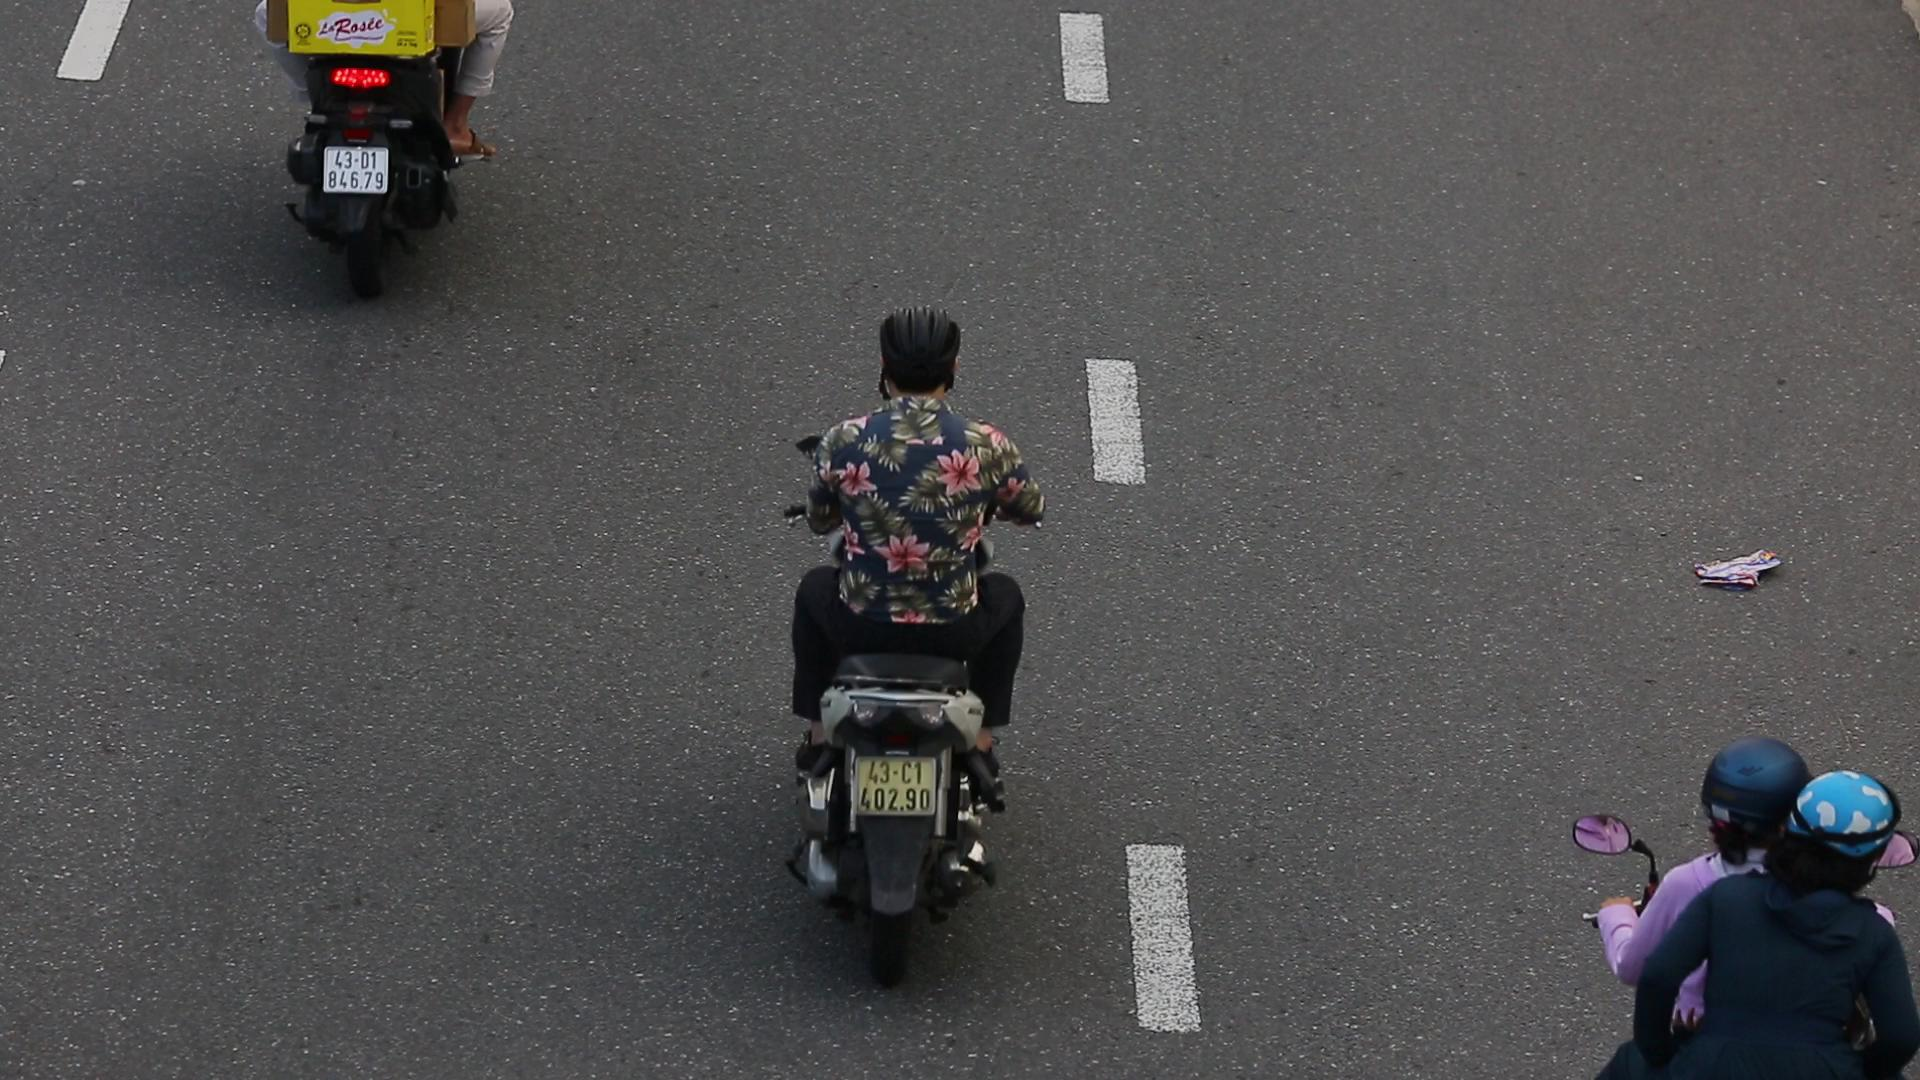motobike: (754, 301, 1058, 1006)
